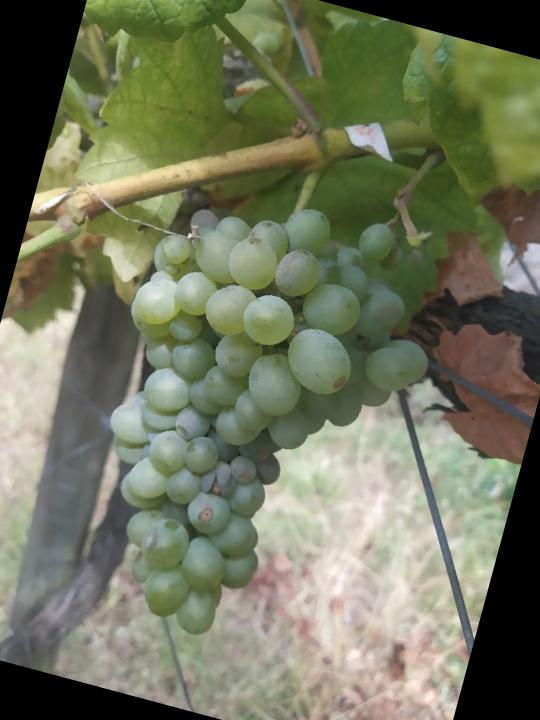grape: (53, 165, 465, 682)
